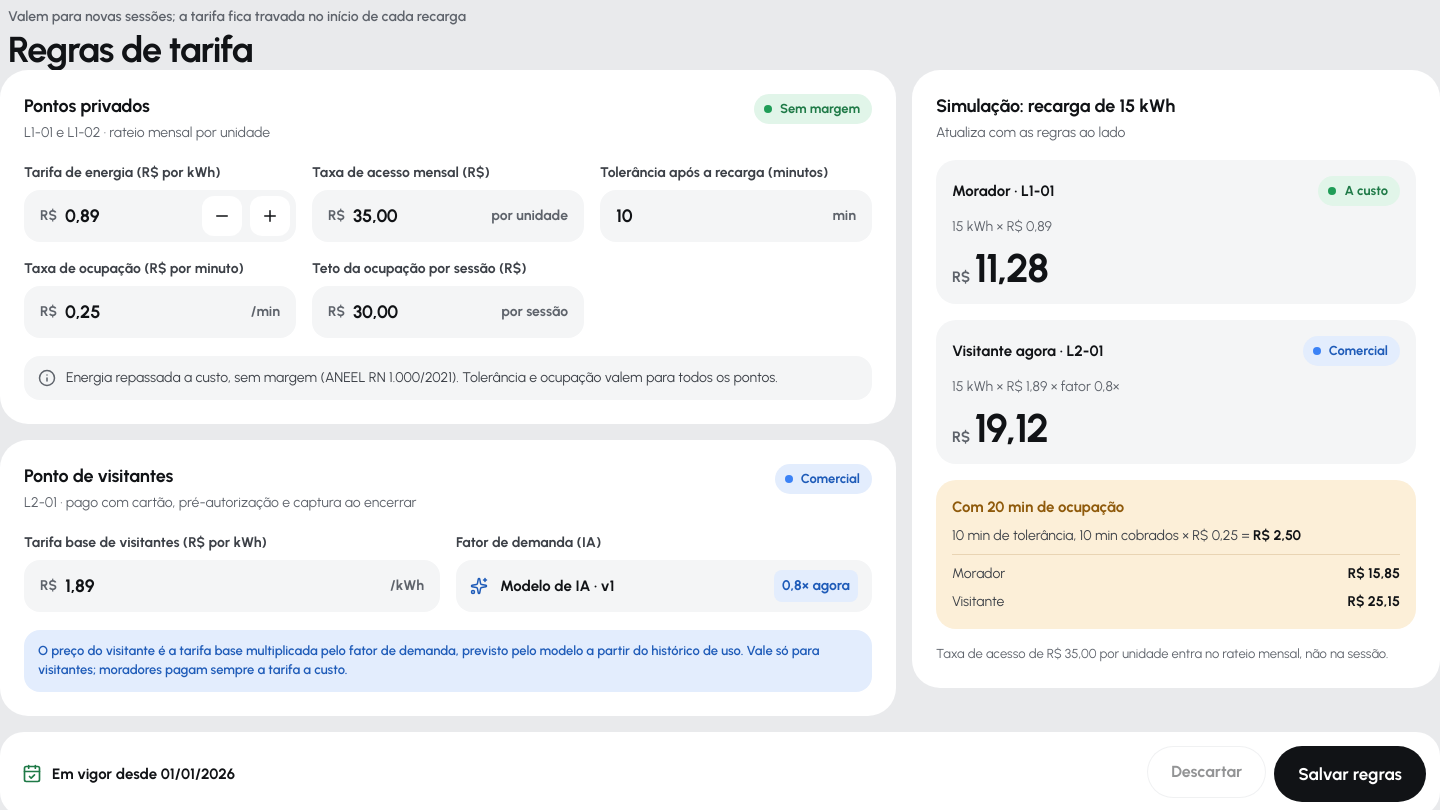
RulesRoute › saves the tariff in cents and confirms with a toast
Replace the text in the field labelled "Tarifa de energia (R$ por kWh)" with "0,92" at (130, 216), box [65,190,194,242]
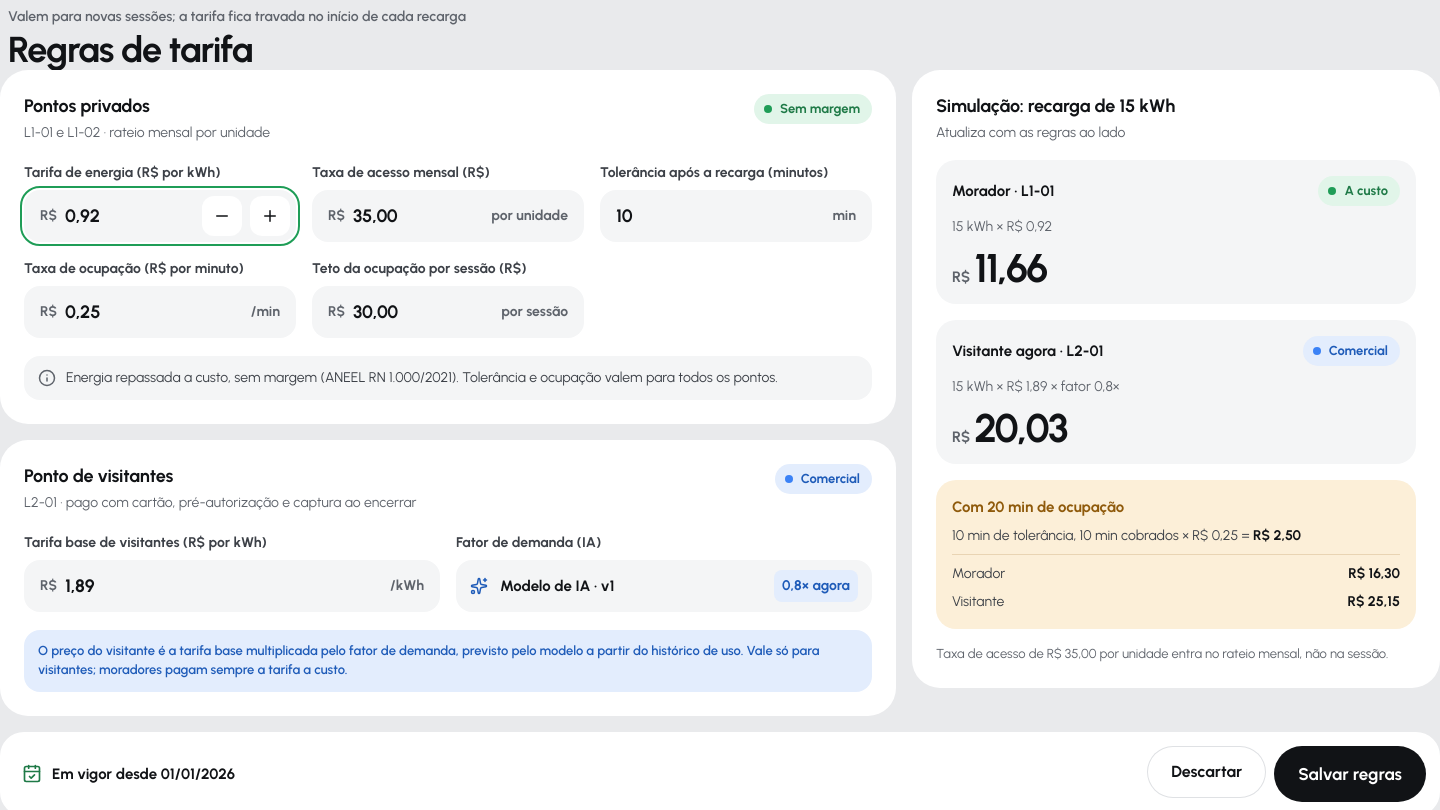
Clear the field labelled "Tarifa base de visitantes (R$ por kWh)" at (224, 586), box [65,560,382,612]
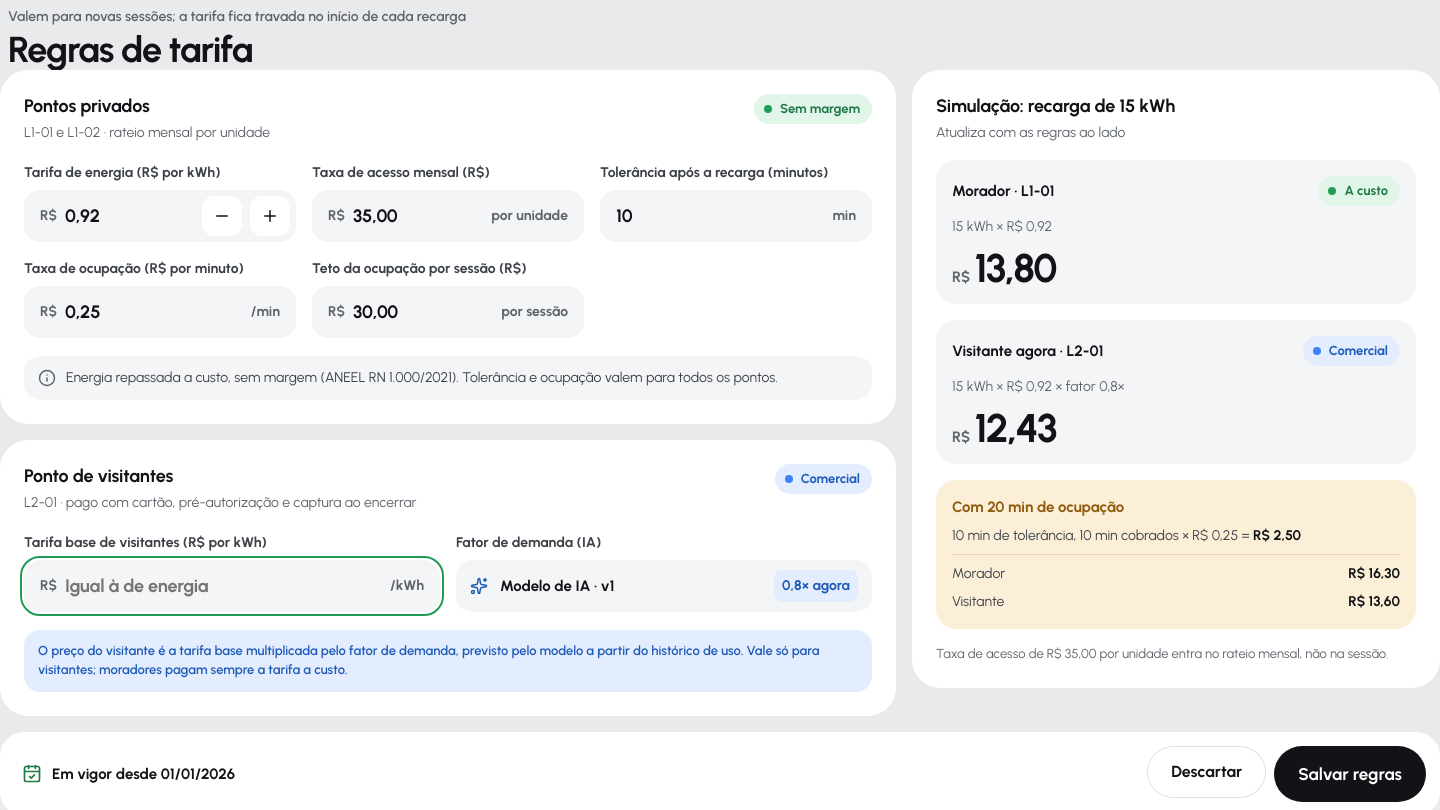
Replace the text in the field labelled "Tolerância após a recarga (minutos)" with "15" at (720, 216), box [616,190,824,242]
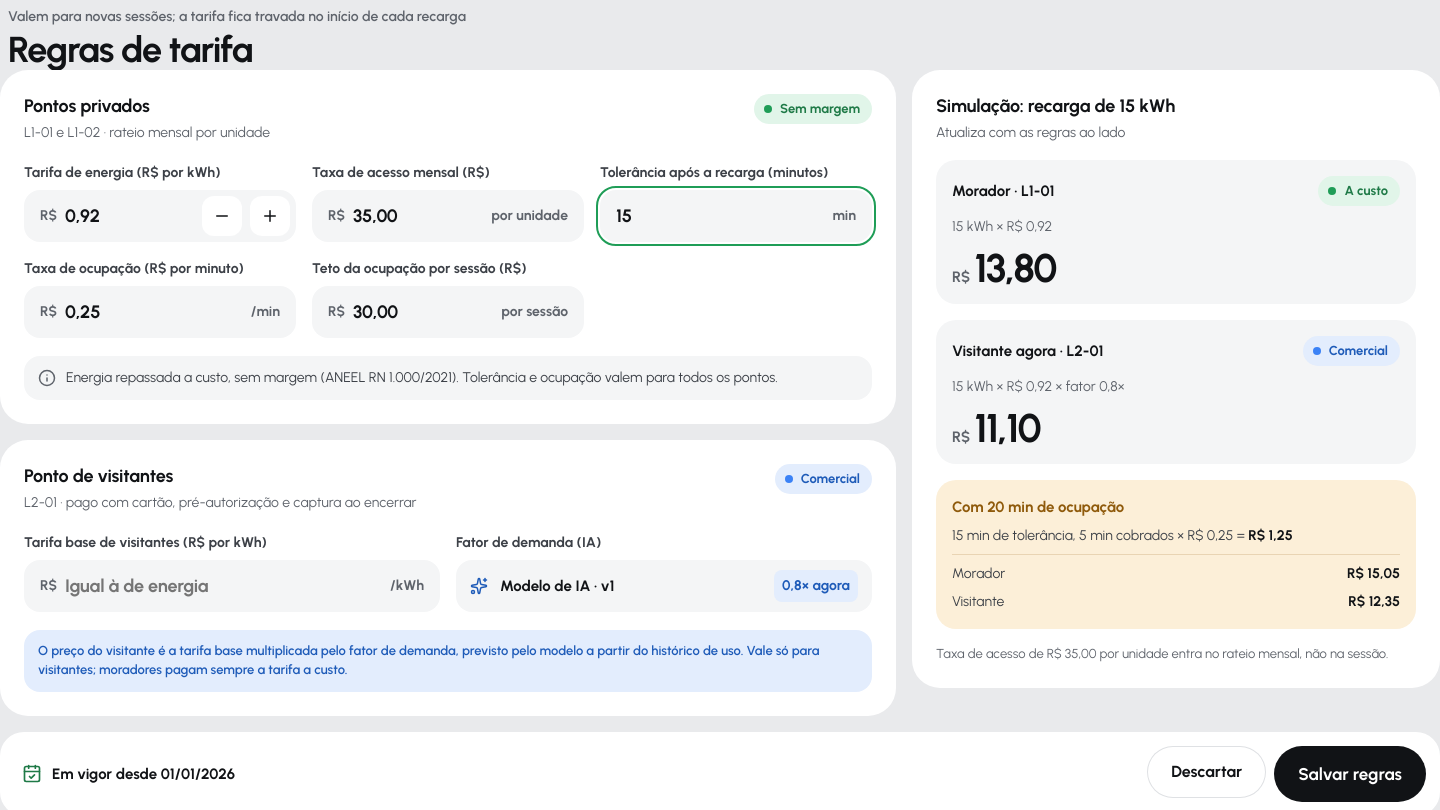
Click the button "Salvar regras" at (1350, 774), box [1274,746,1426,802]
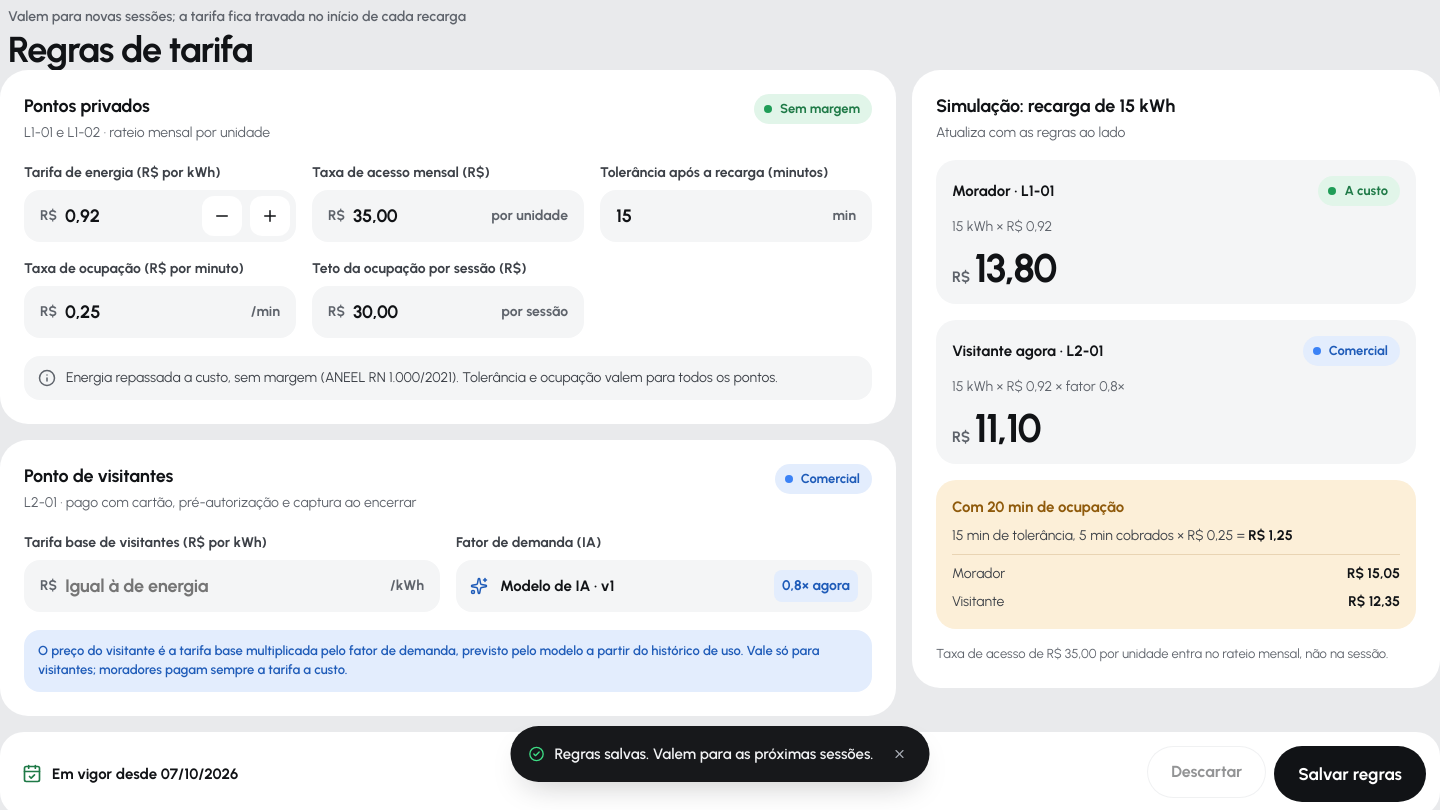
Expected: the text "Regras salvas. Valem para as próximas sessões." is shown, [554,743,874,765]
Expected: the text "Em vigor desde 07/10/2026" is shown, [22,763,238,785]
Expected: the button "Descartar" is disabled, [1147,746,1266,798]
